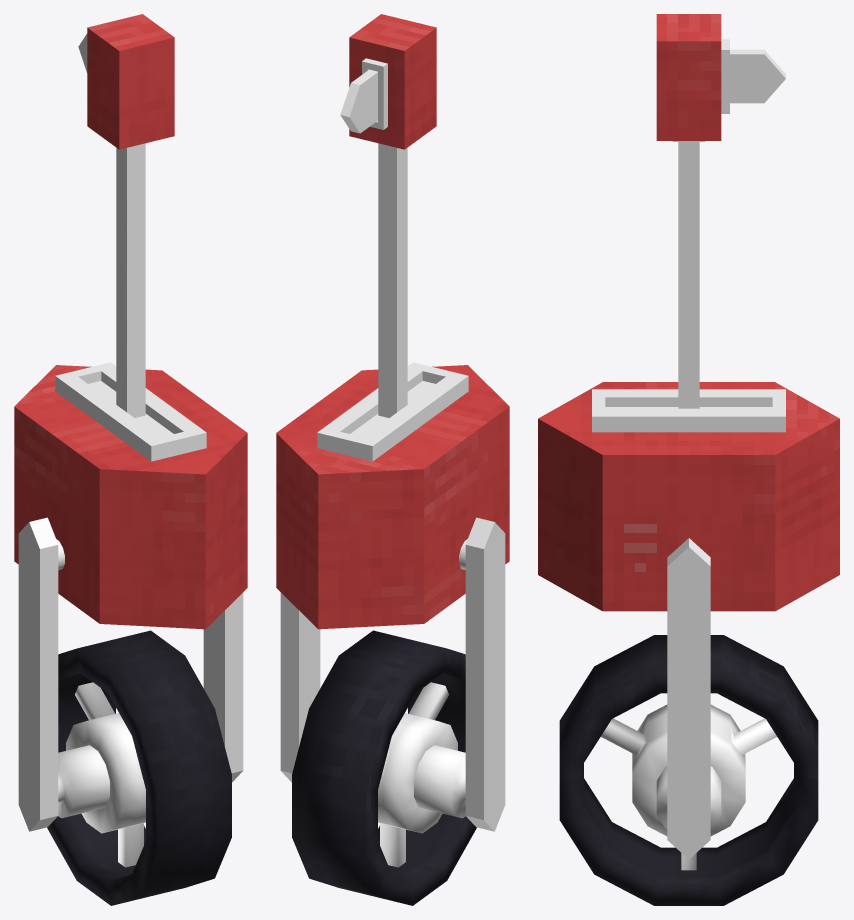
File: slasher_model.gltf
3 renders of one model, left to right at view 1: azimuth 30°, elevation 25°; view 2: azimuth 150°, elevation 25°; view 3: azimuth 270°, elevation 25°, orthographic.
Visible parts, largest first — view 1: MainBody, Wheel, mesh_selection (×3), weapon, cylinder_selection, Wheel_selection; view 2: MainBody, Wheel, mesh_selection (×4), weapon, cylinder_selection, Wheel_selection, blade; view 3: MainBody, Wheel, mesh_selection (×3), weapon, cylinder_selection, blade, Wheel_selection.
Boxes of the visible parts, bbox=[...] form: MainBody: bbox=[14, 362, 247, 831]; Wheel: bbox=[47, 630, 231, 905]; mesh_selection (×3): bbox=[88, 143, 243, 782]; weapon: bbox=[87, 14, 174, 149]; cylinder_selection: bbox=[66, 682, 145, 867]; Wheel_selection: bbox=[58, 745, 109, 818]; MainBody: bbox=[276, 362, 509, 831]; Wheel: bbox=[292, 630, 476, 905]; mesh_selection (×4): bbox=[280, 58, 435, 782]; weapon: bbox=[349, 14, 436, 149]; cylinder_selection: bbox=[378, 682, 457, 867]; Wheel_selection: bbox=[414, 745, 465, 818]; blade: bbox=[340, 69, 377, 133]; MainBody: bbox=[538, 382, 839, 611]; Wheel: bbox=[559, 635, 818, 905]; mesh_selection (×3): bbox=[667, 39, 729, 859]; weapon: bbox=[656, 14, 721, 140]; cylinder_selection: bbox=[601, 704, 776, 870]; blade: bbox=[730, 49, 785, 103]; Wheel_selection: bbox=[656, 766, 721, 828].
Size of the model in its own units: 0.3438 by 1.38 by 0.4375.
Materials: 7 (2 with a texture image).
